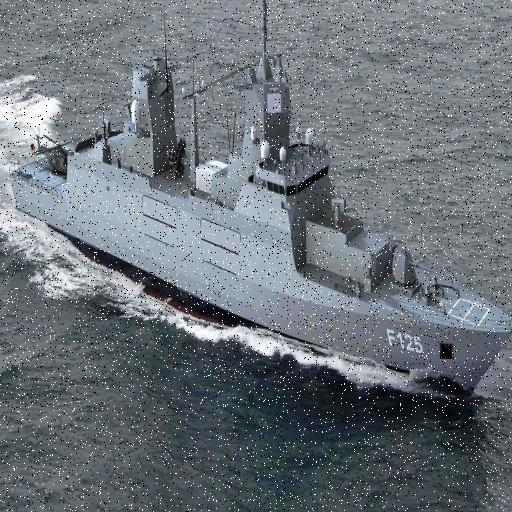Fragata: (2, 1, 512, 406)
